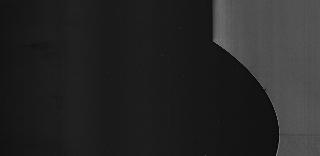welding line: (274, 130, 320, 142)
